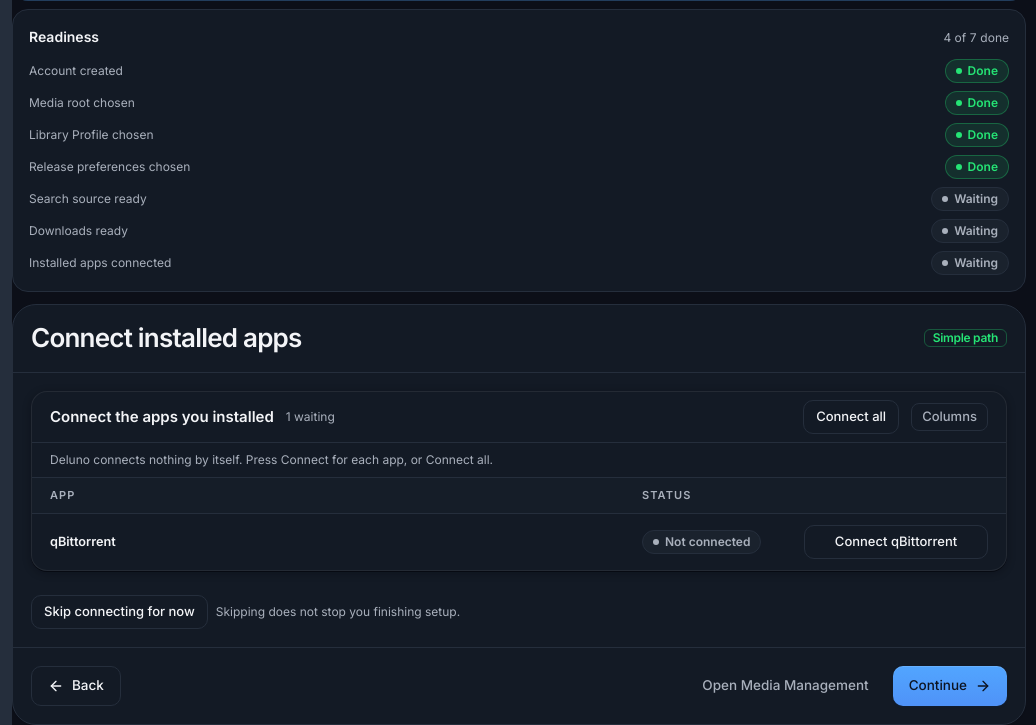
it: the guide shell and step rail, low rows (#1329) › the Readiness card lists each check with Done, Waiting or Skipped and counts how many are done
(page scrolled)
Expected: the text "Account created" is shown, x1=29 y1=63 x2=123 y2=79
Expected: the text "Media root chosen" is shown, x1=29 y1=95 x2=135 y2=111
Click the button "Skip connecting for now": [119, 612] box x1=31 y1=595 x2=208 y2=629
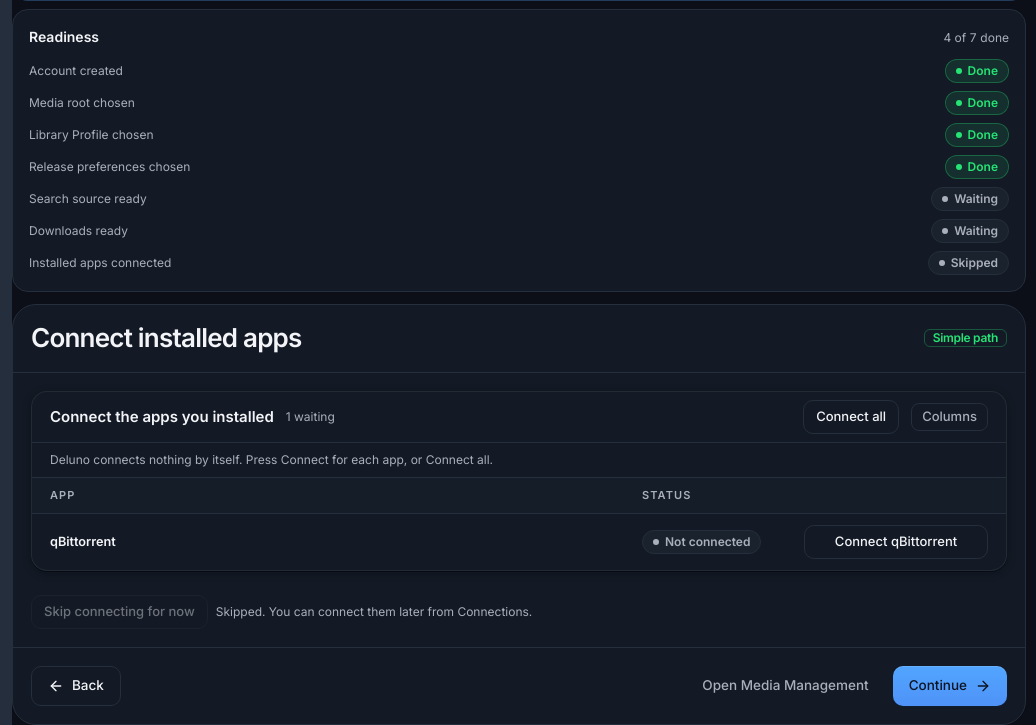
Expected: the list item "Installed apps connected Skipped" is shown, x1=29 y1=251 x2=1009 y2=275
Expected: the text "Skipped. You can connect them later from Connections." is shown, x1=216 y1=603 x2=532 y2=621
Expected: the button "Skip connecting for now" is disabled, x1=31 y1=595 x2=208 y2=629
